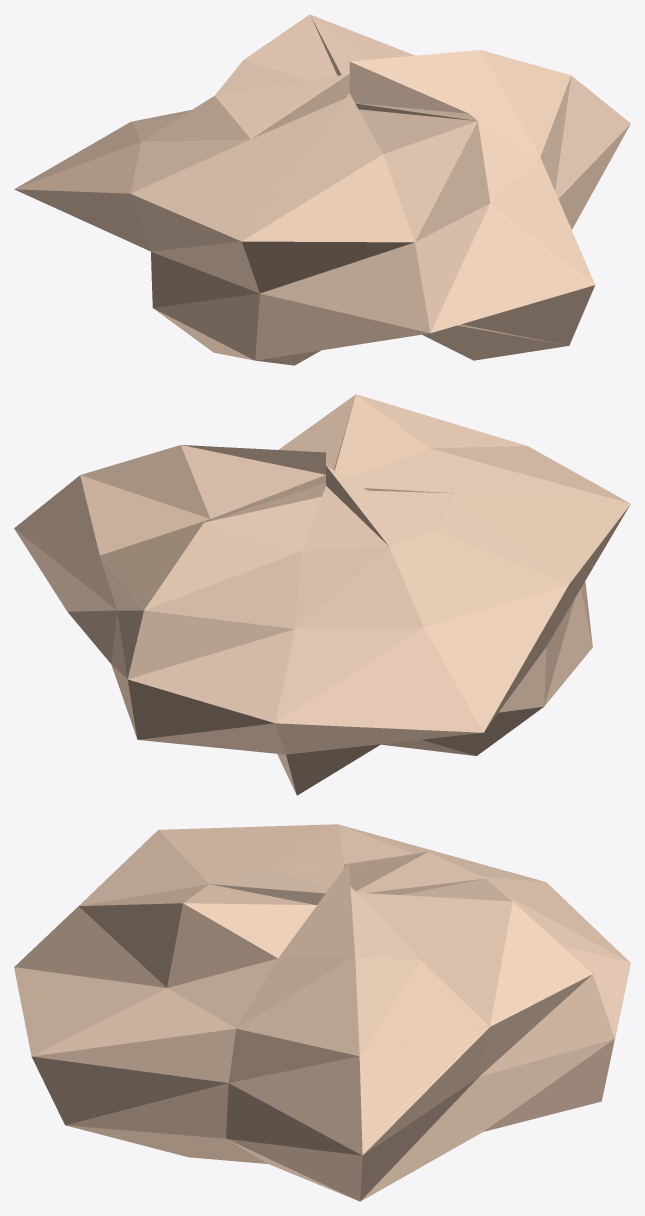
The model's file is rock_051.obj.
The picture shows the model from 3 angles, top to bottom: view 1: azimuth 30°, elevation 25°; view 2: azimuth 150°, elevation 25°; view 3: azimuth 270°, elevation 25°; orthographic projection. The views are drawn at different scales.
Bounding box in the file's own units: 1.18 × 0.5926 × 1.13.
